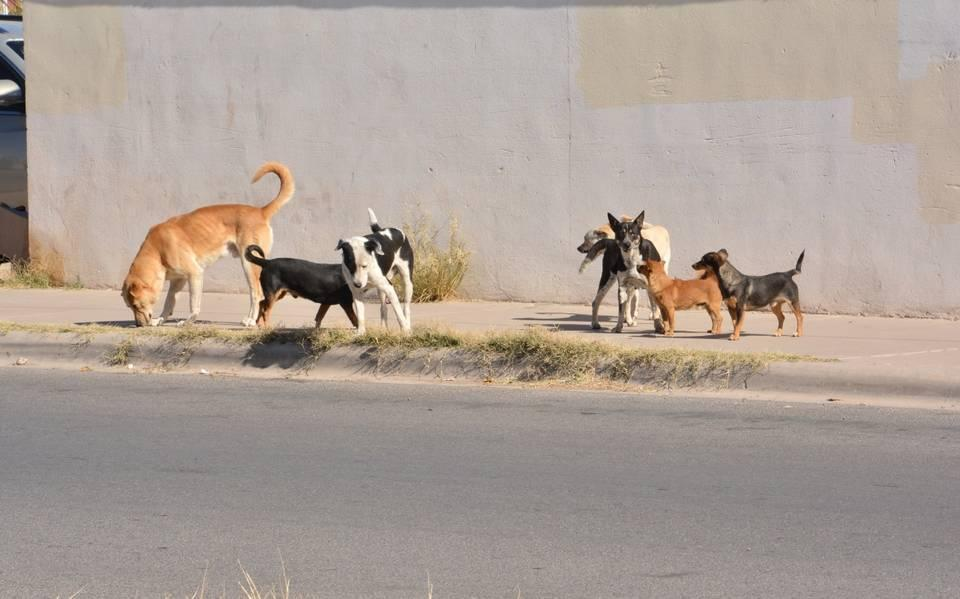dog_aggressive: (594, 210, 659, 336)
normal_dogs: (120, 162, 286, 339), (692, 239, 820, 347), (242, 240, 377, 338), (634, 238, 724, 353), (340, 216, 435, 324), (566, 202, 682, 271)
